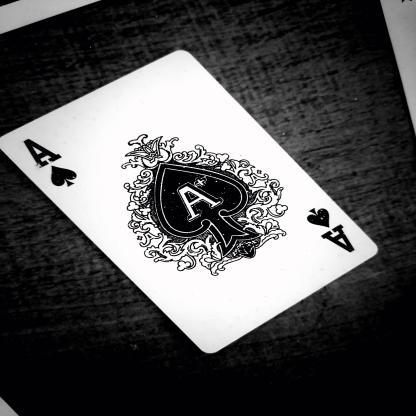AS: (17, 128, 82, 204), (300, 199, 362, 265)
